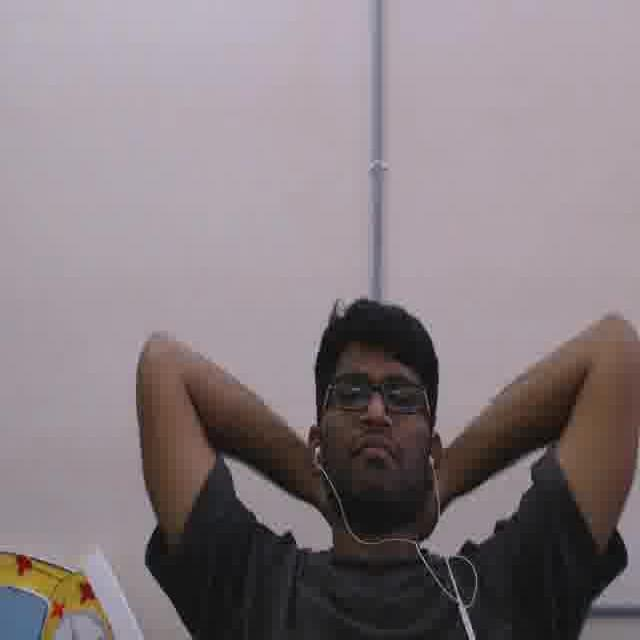Boredom: (325, 341, 425, 496)
